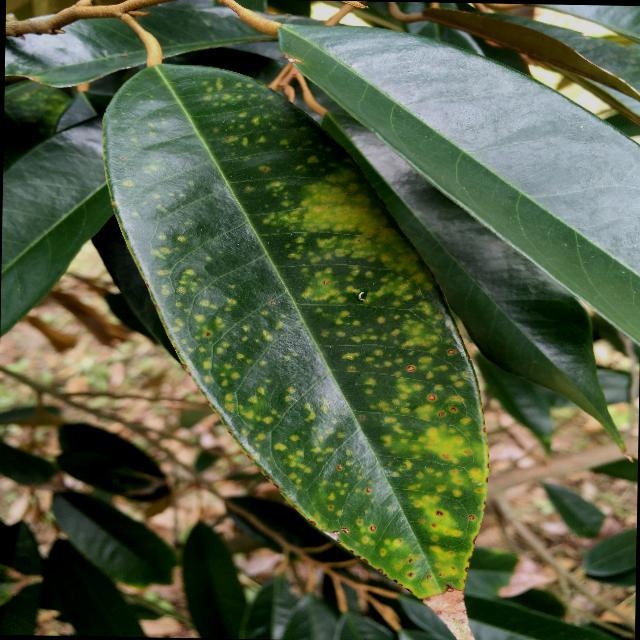Leaf Spot: (82, 53, 502, 639)
